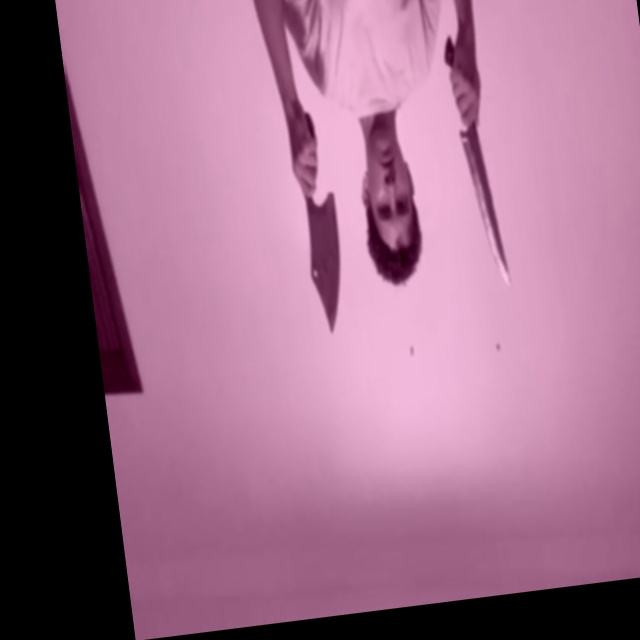Sharp-Object: (459, 130, 511, 288), (299, 193, 350, 336)
